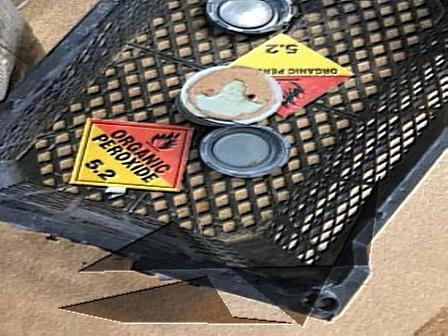organic-peroxide: (224, 32, 359, 118), (66, 118, 196, 193)
